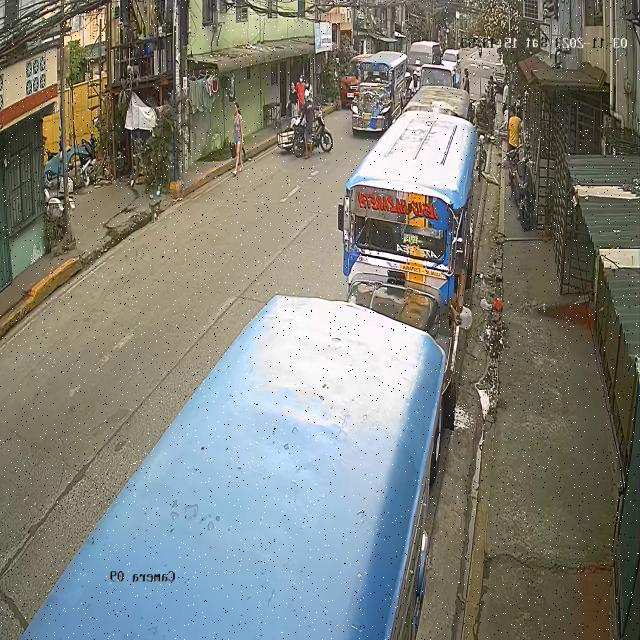human: (230, 102, 246, 176)
trash: (229, 136, 236, 158)
